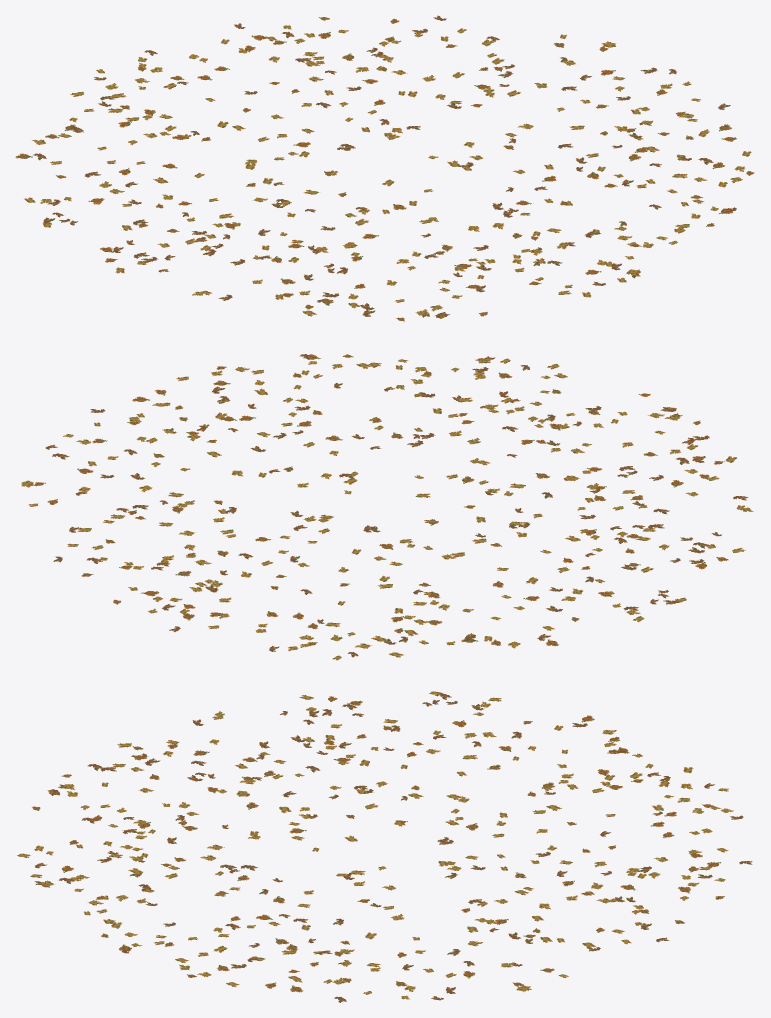
Rendered from chene_adulte_c.fbx.
The picture shows the model from 3 angles, top to bottom: view 1: azimuth 30°, elevation 25°; view 2: azimuth 150°, elevation 25°; view 3: azimuth 270°, elevation 25°; orthographic projection.
Visible parts, largest first — view 1: chene_adulte_c_feuilles_sol; view 2: chene_adulte_c_feuilles_sol; view 3: chene_adulte_c_feuilles_sol.
Boxes of the visible parts, x1,y1,x2,y2 form: chene_adulte_c_feuilles_sol: [15, 15, 754, 321]; chene_adulte_c_feuilles_sol: [21, 354, 753, 660]; chene_adulte_c_feuilles_sol: [17, 691, 752, 1002].
Size of what is drawn, in the model's own units: 17.33 by 0.00598 by 17.34.
